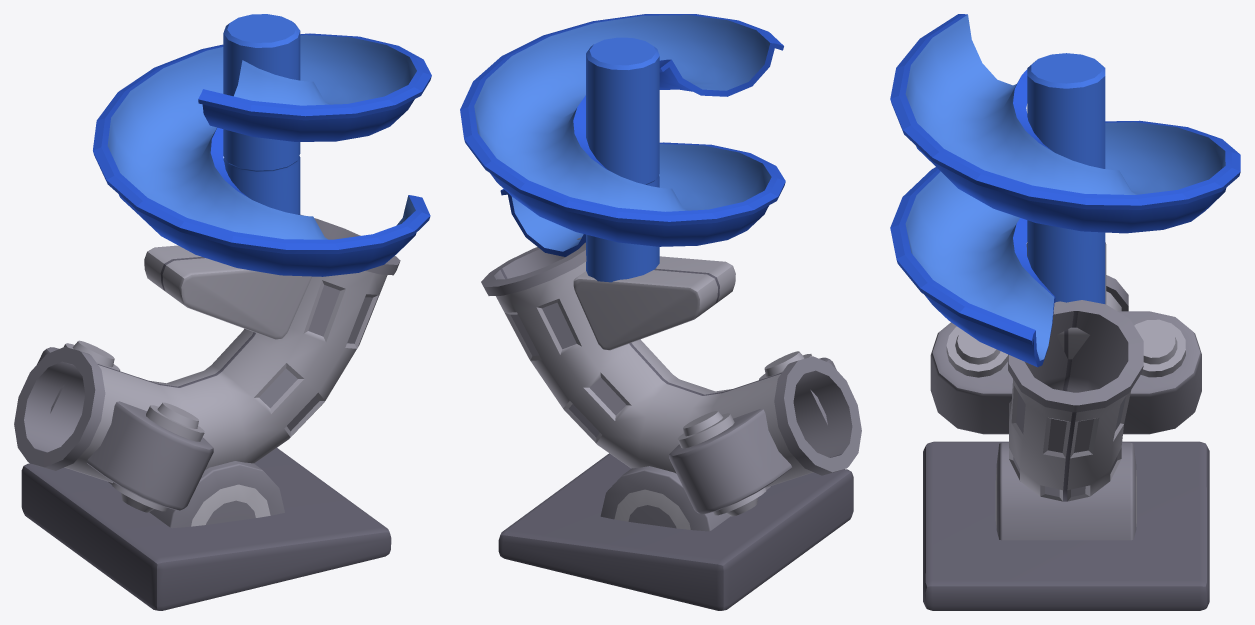
File: Ball_Throwing_Machine_02.fbx
The picture shows the model from 3 angles, left to right: view 1: azimuth 30°, elevation 25°; view 2: azimuth 150°, elevation 25°; view 3: azimuth 270°, elevation 25°; orthographic projection. The views are drawn at different scales.
Visible parts, largest first — view 1: Ball_Throwing_Machine_02; view 2: Ball_Throwing_Machine_02; view 3: Ball_Throwing_Machine_02.
Part boxes in pixels (x1,y1,x2,y2): Ball_Throwing_Machine_02: [14, 14, 431, 610]; Ball_Throwing_Machine_02: [460, 14, 861, 610]; Ball_Throwing_Machine_02: [890, 14, 1240, 610].
Size of the model in its own units: 4.34 by 5.4 by 3.34.
1 material, 1 textured.
